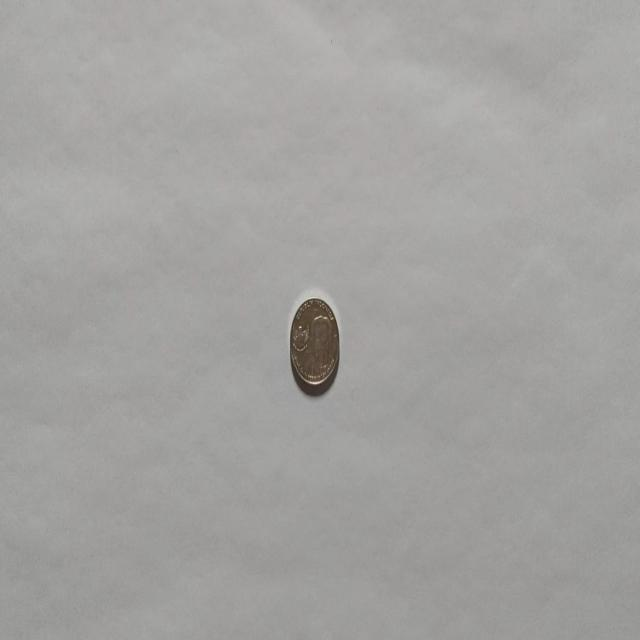seratus rupiah: (288, 295, 340, 389)
